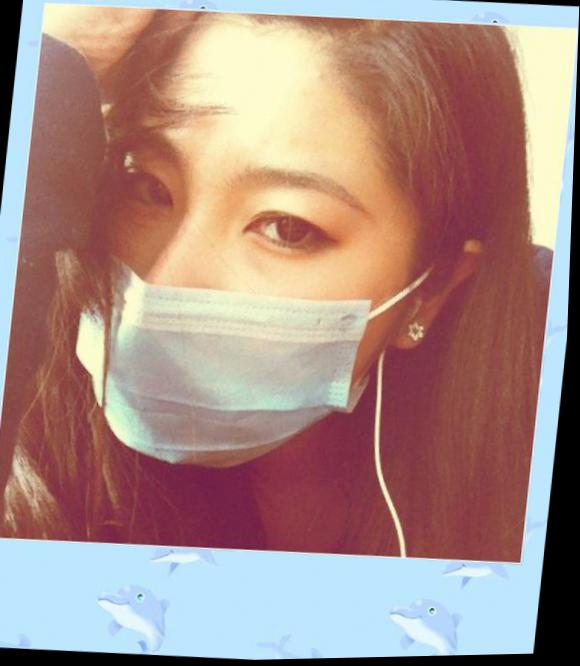WRONG: (55, 76, 419, 490)
